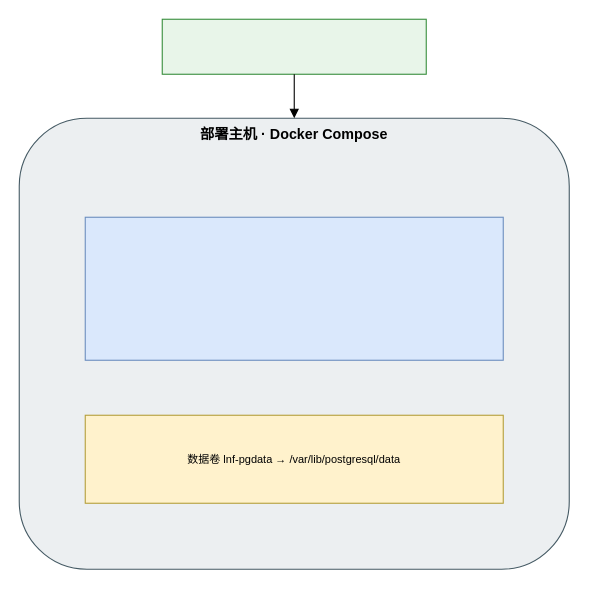
Image size: 589x589. Some labels were removed from this diagram. Here are the shapes that lost their labels. From the top down, the box of each, then its label:
(161, 18, 426, 74): 浏览器客户端
(84, 216, 503, 360): lnf-postgres（pgvector/pgvector:pg16） 端口 5432 · 健康检查 POSTGRES_DB = lost_and_found
